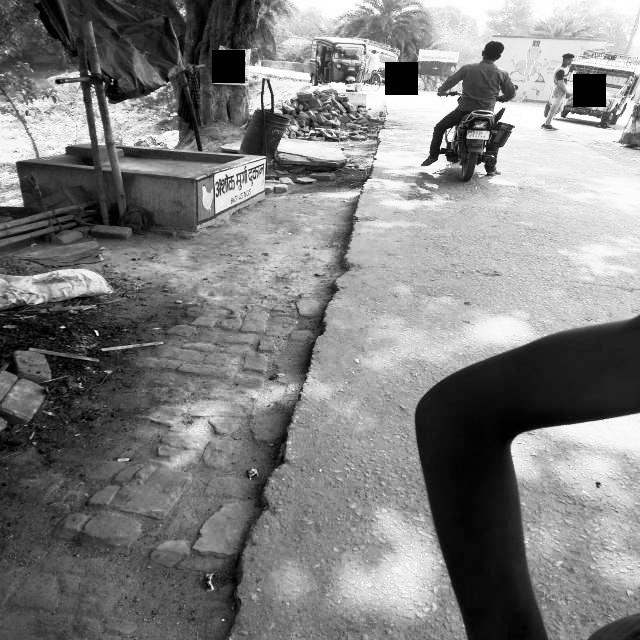Auto-Rickshaw: (307, 35, 369, 91)
